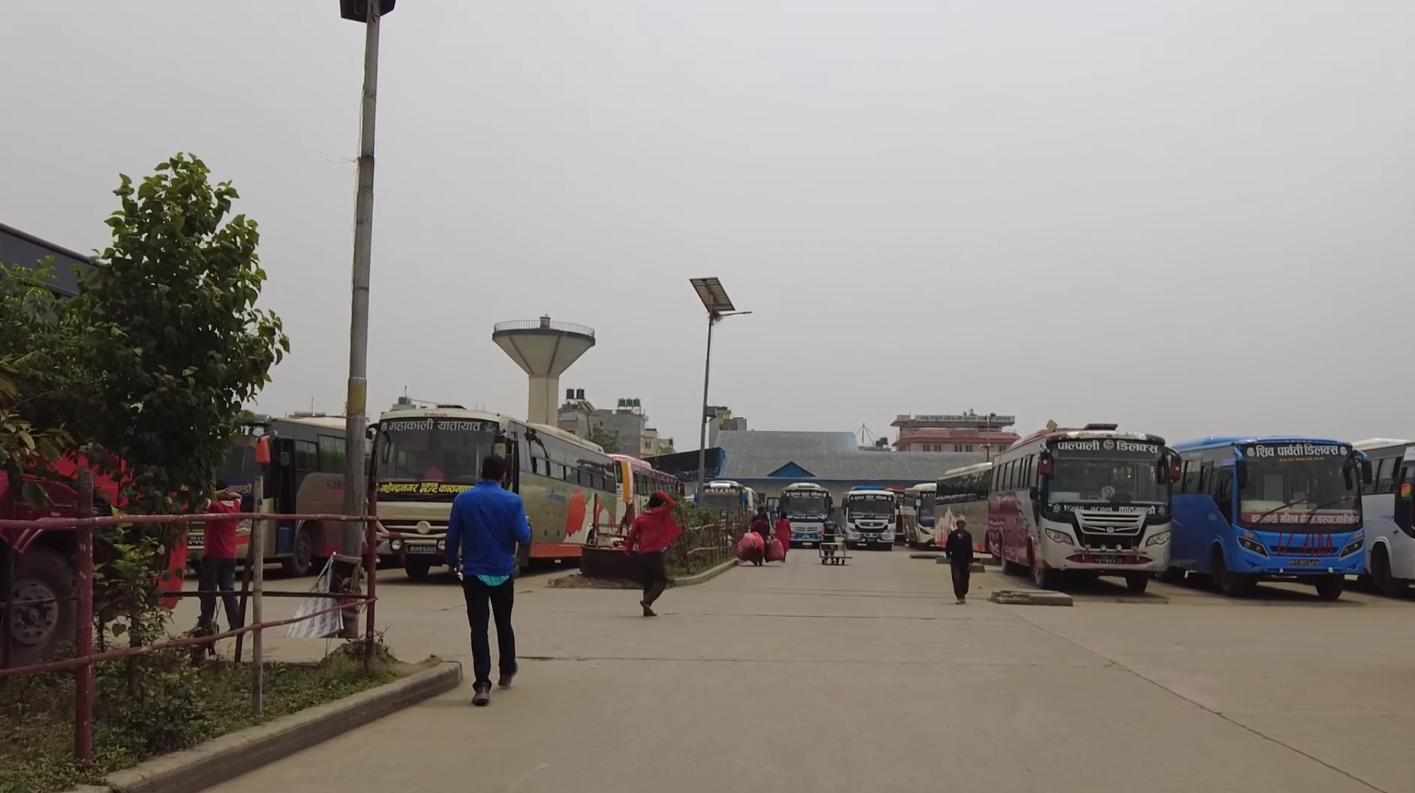bus: (361, 396, 628, 577), (1166, 417, 1374, 610), (981, 417, 1171, 600)
